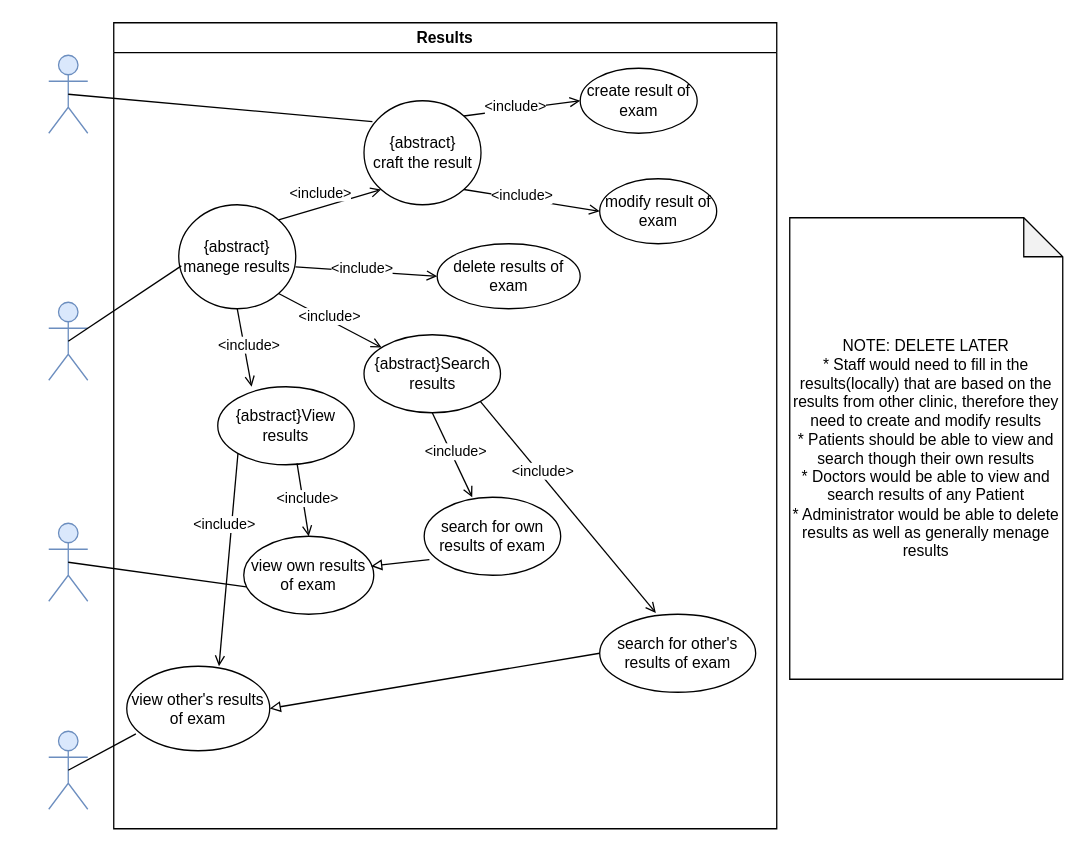
The diagram is 1086 pixels wide and 859 high, and some of its shapes have lost their labels. The centre of each missing label's shape, as x and y in pixels:
"Administrator" belongs at point 67,340.
"Doctors" belongs at point 67,769.
"Patients" belongs at point 67,561.
"Staff" belongs at point 67,93.
